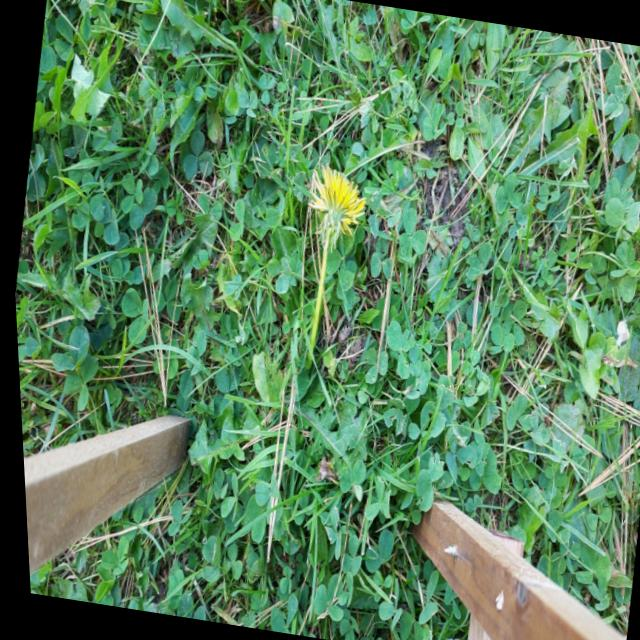base: (291, 341, 321, 382)
flower: (305, 165, 369, 237)
